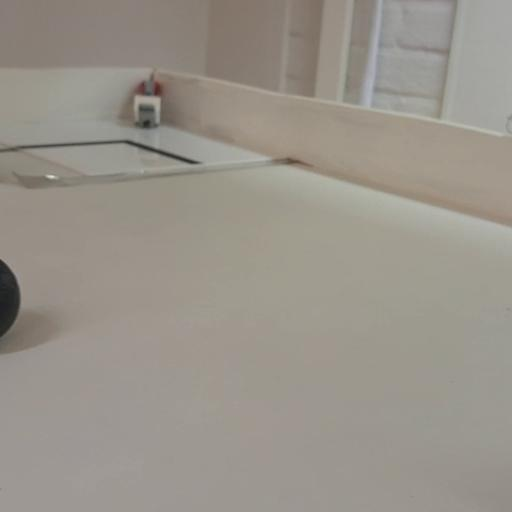dead: (0, 254, 21, 344)
